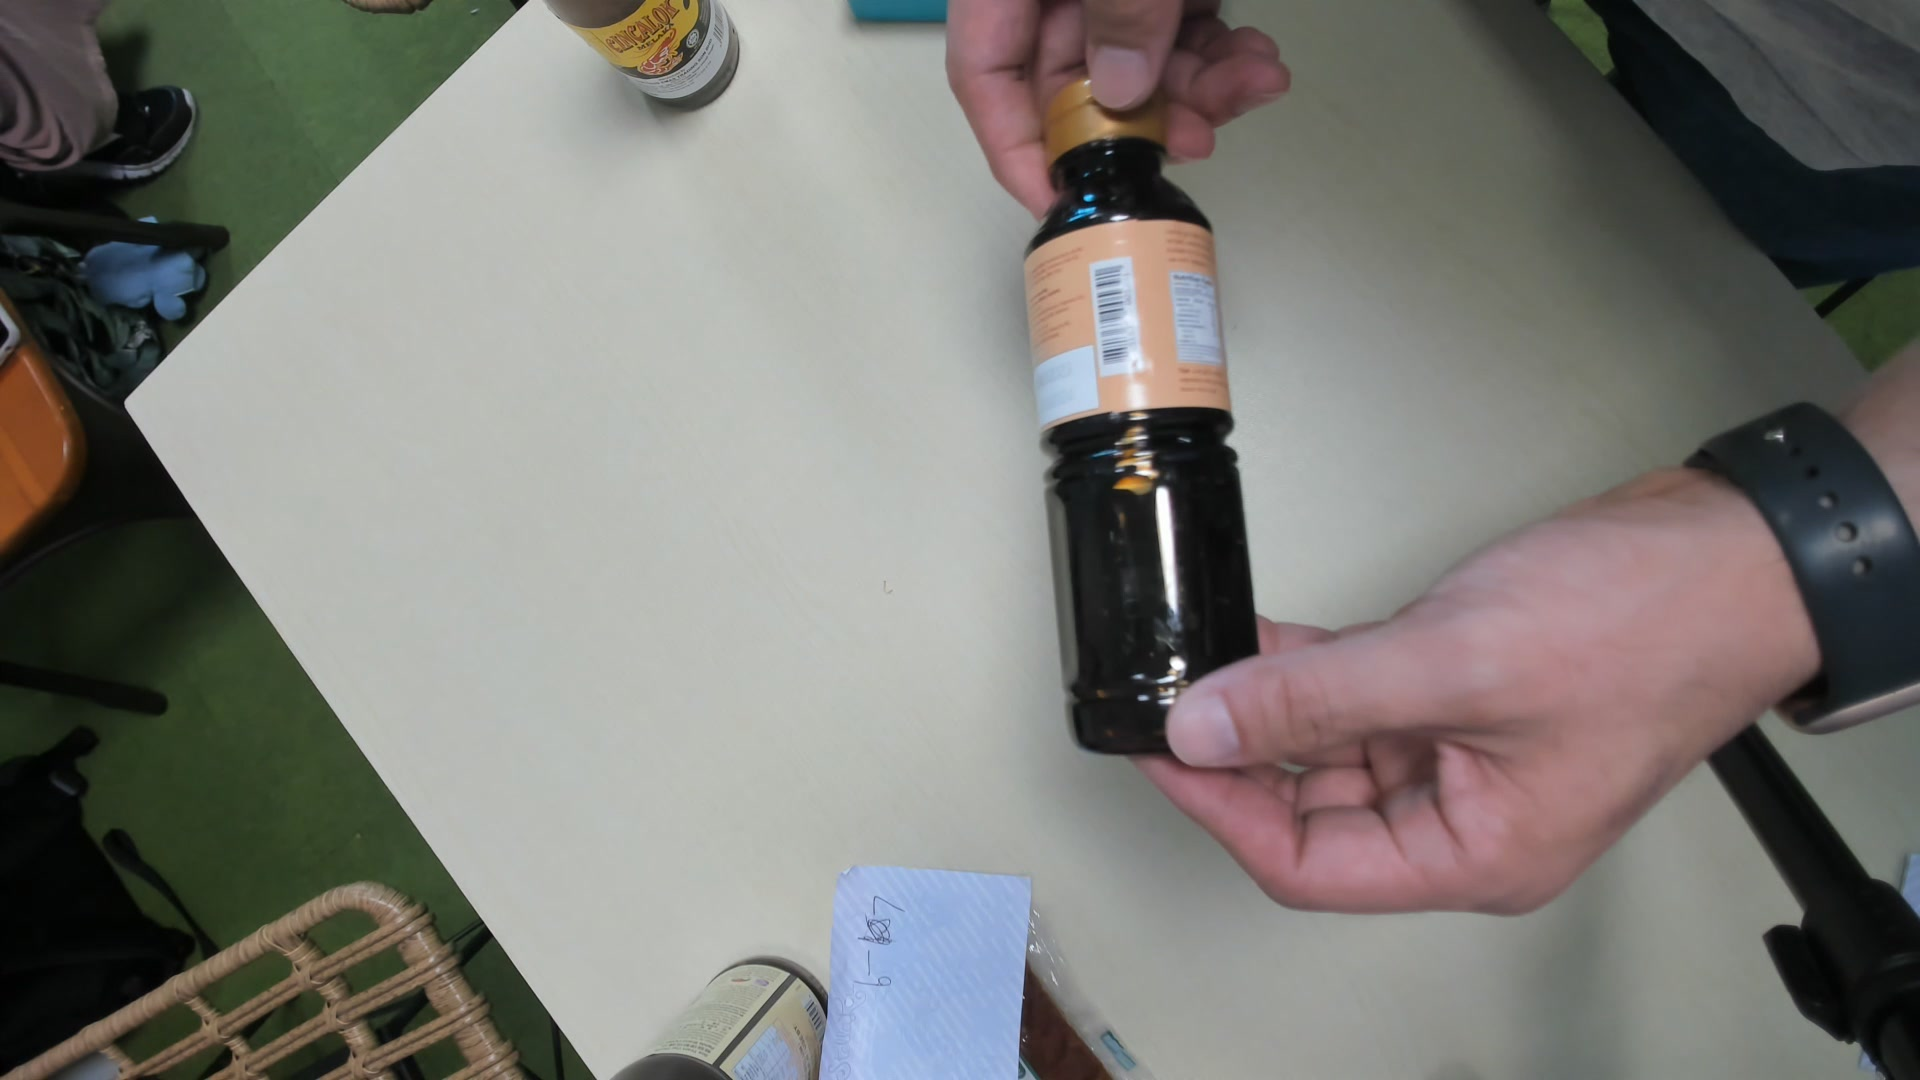OtherSauceDressingSoupbasePaste_200-299g_Halal_NonHealthy: (1022, 90, 1265, 764)
